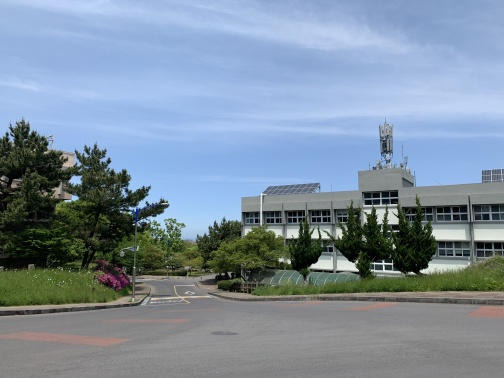College Of Education: (3, 139, 80, 211)
